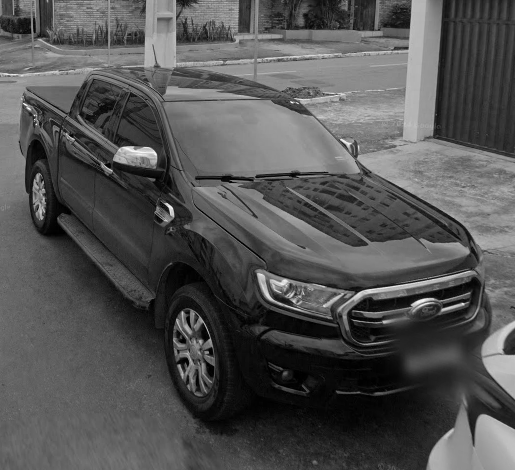car: (17, 60, 493, 430)
